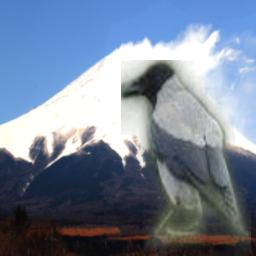Crow: (121, 60, 251, 256)
